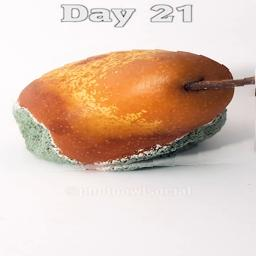Pear Rotten: (8, 47, 256, 174)
